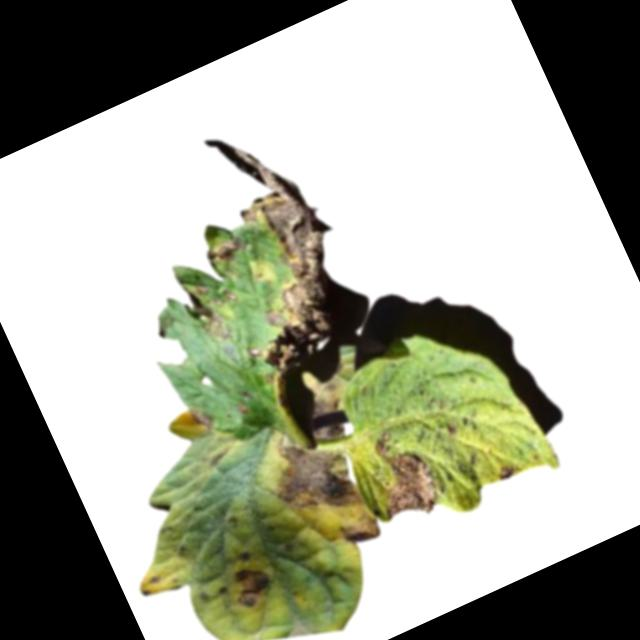Early_blight: (165, 111, 367, 378), (355, 420, 446, 528), (260, 426, 359, 524), (176, 273, 242, 349), (295, 380, 355, 447), (226, 560, 280, 614), (333, 508, 385, 554), (182, 401, 216, 437), (490, 458, 521, 484), (232, 546, 252, 565)
